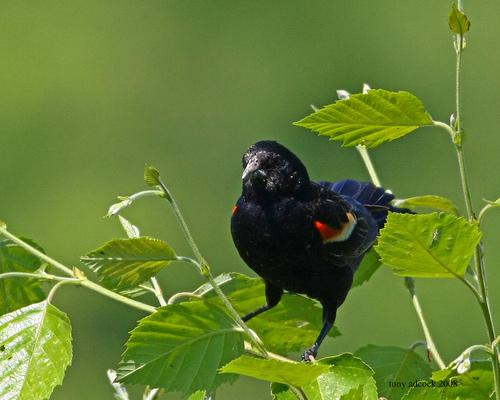010.Red_winged_Blackbird: (230, 139, 396, 369)
